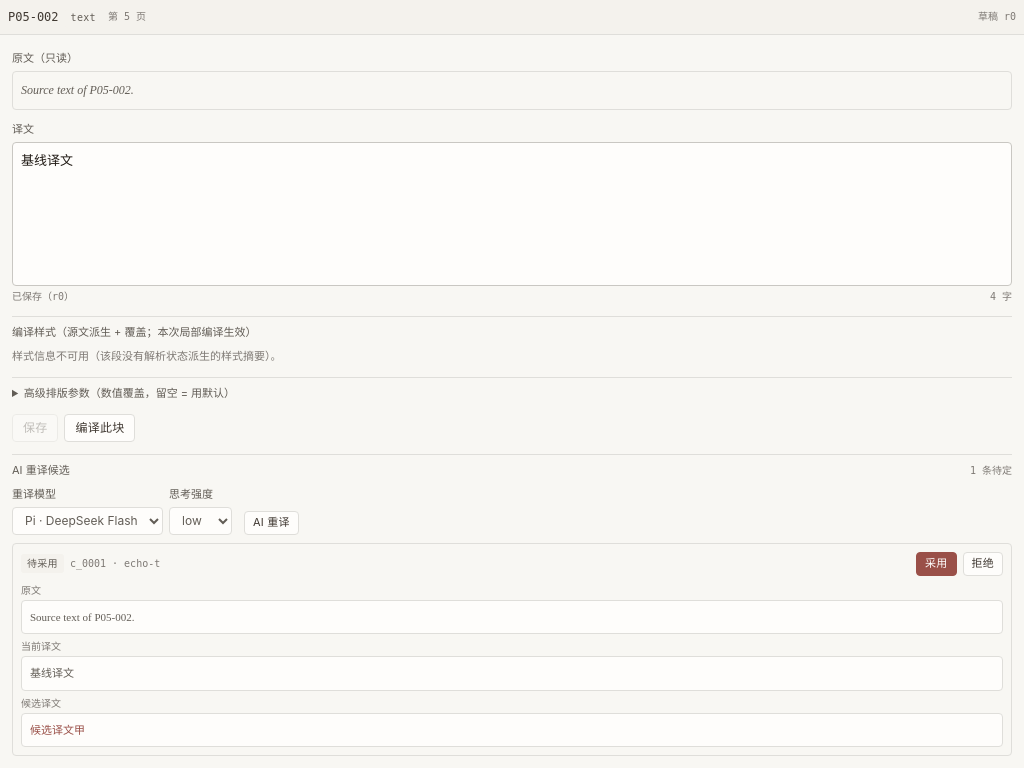
CandidatePanel 采用 / 拒绝 › 采用失败（409 candidate_decided）→ 显示错误卡，草稿不变
The width and height of the screenshot is (1024, 768).
Click the button "采用".
click(936, 564)  # box [916,552,957,576]
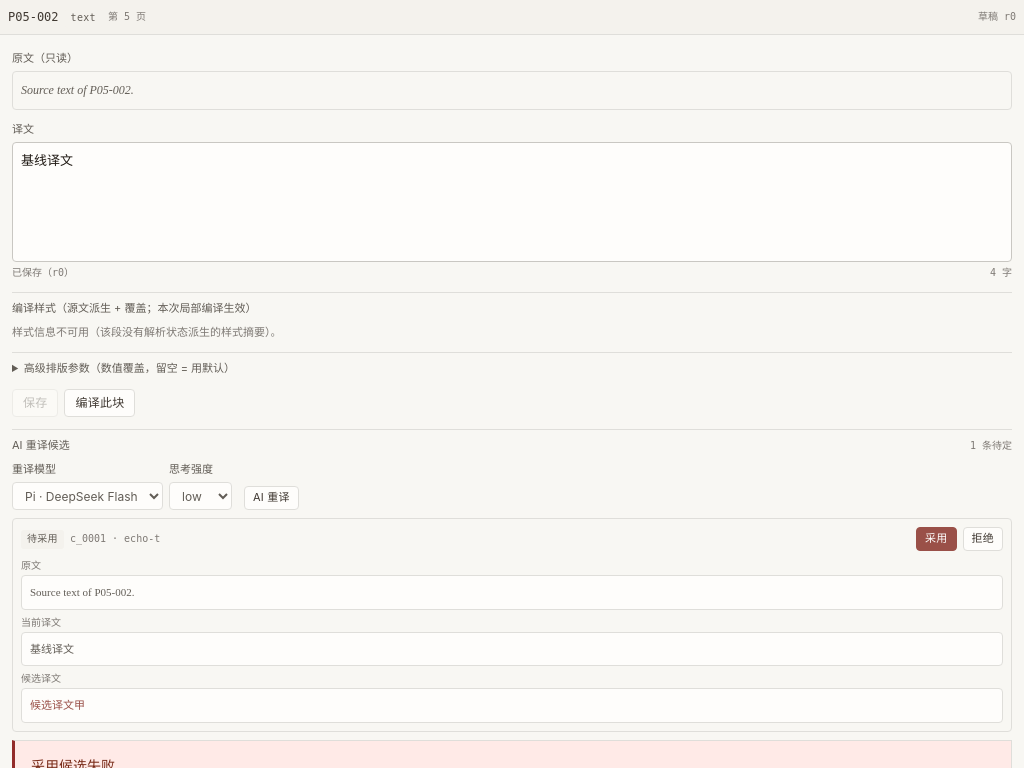
Check: the text box labelled "译文" holds "基线译文", box [12,142,1012,262]
Check: the text "采用候选失败" is shown, box [31,759,115,767]
